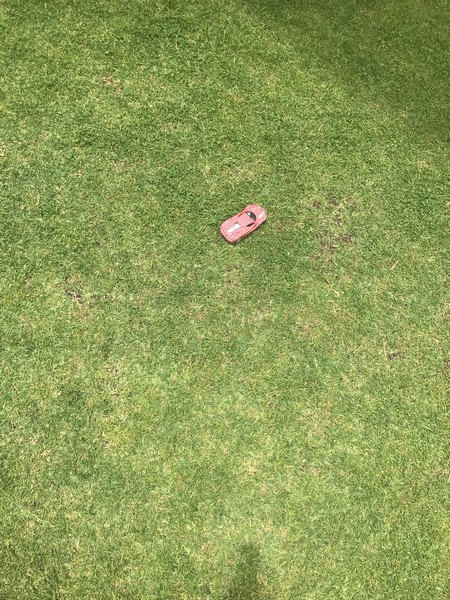RC: (219, 203, 269, 245)
